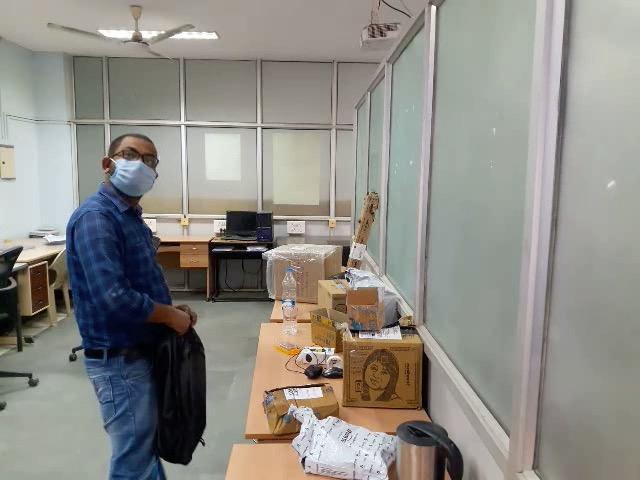shoplifting: (36, 257, 254, 480)
